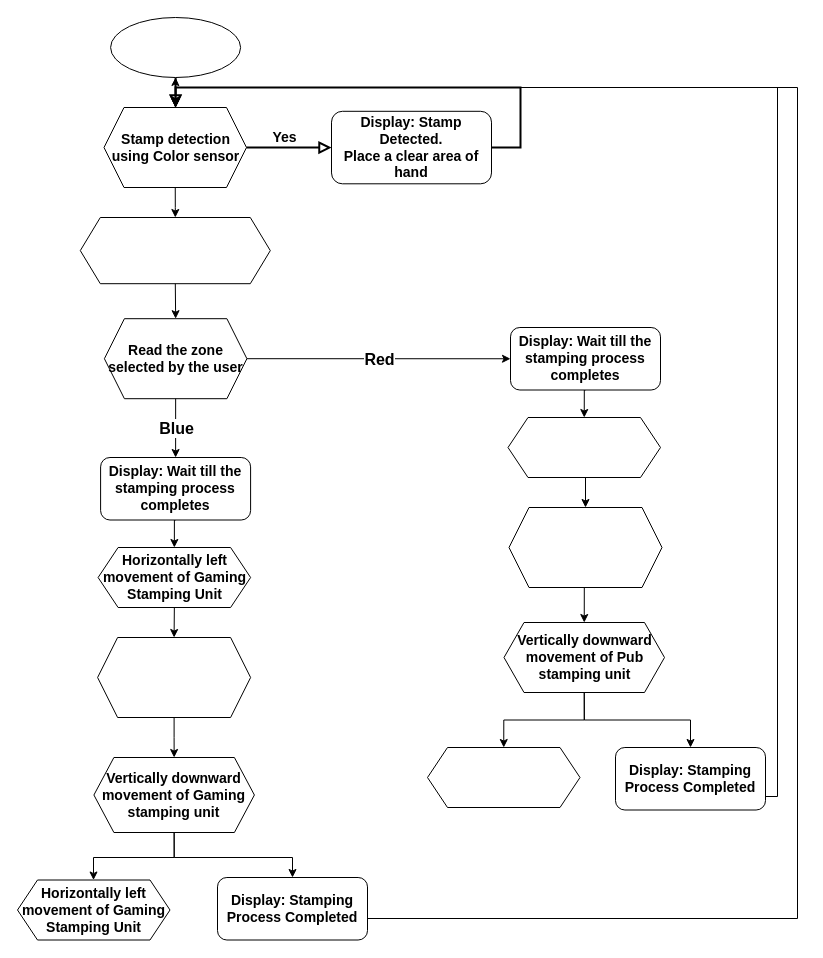
Image size: 823x958. Some labels were removed from this diagram. Here are the shapes that lost their labels. From the top down, the box of each, then its label:
(110, 16, 241, 78): Start
(79, 216, 270, 284): Sensor Servo motor 90 degree inward movement
(507, 416, 660, 478): Horizontally right movement of Pub Stamping Unit
(508, 506, 662, 588): Stamping on hand (Vertically upward movement of Pub stamping unit)
(97, 636, 251, 718): Stamping on hand (Vertically upward movement of Gaming stamping unit)
(426, 746, 580, 808): Horizontally left movement of Pub Stamping Unit
